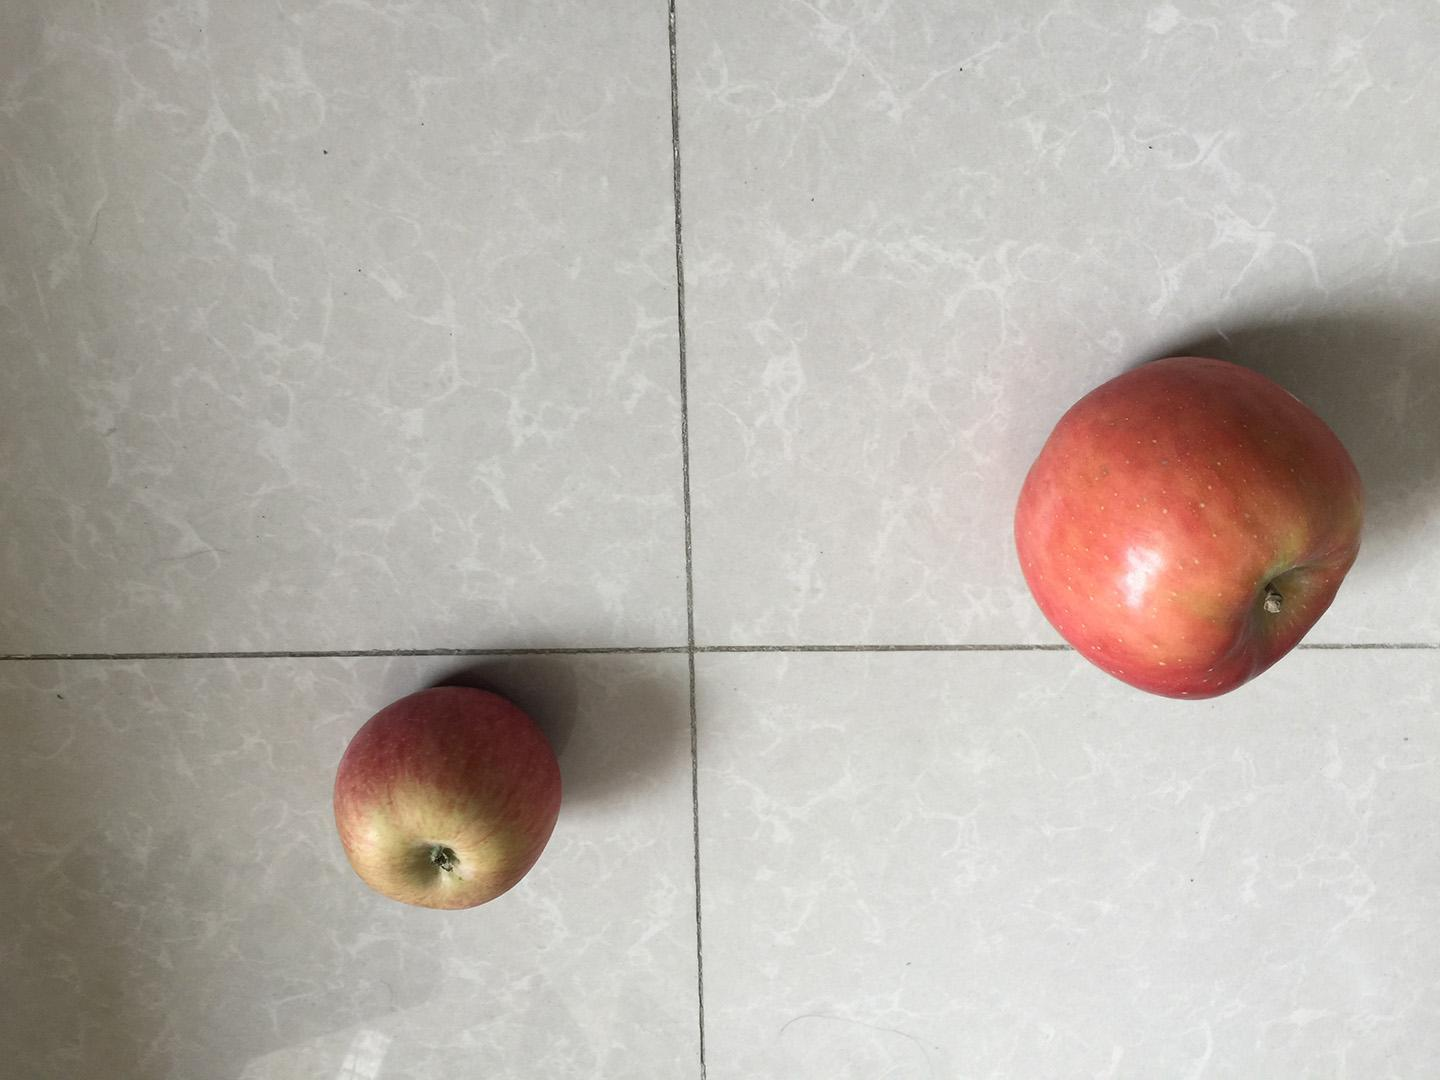apple: (1003, 347, 1374, 711), (325, 678, 569, 917)
